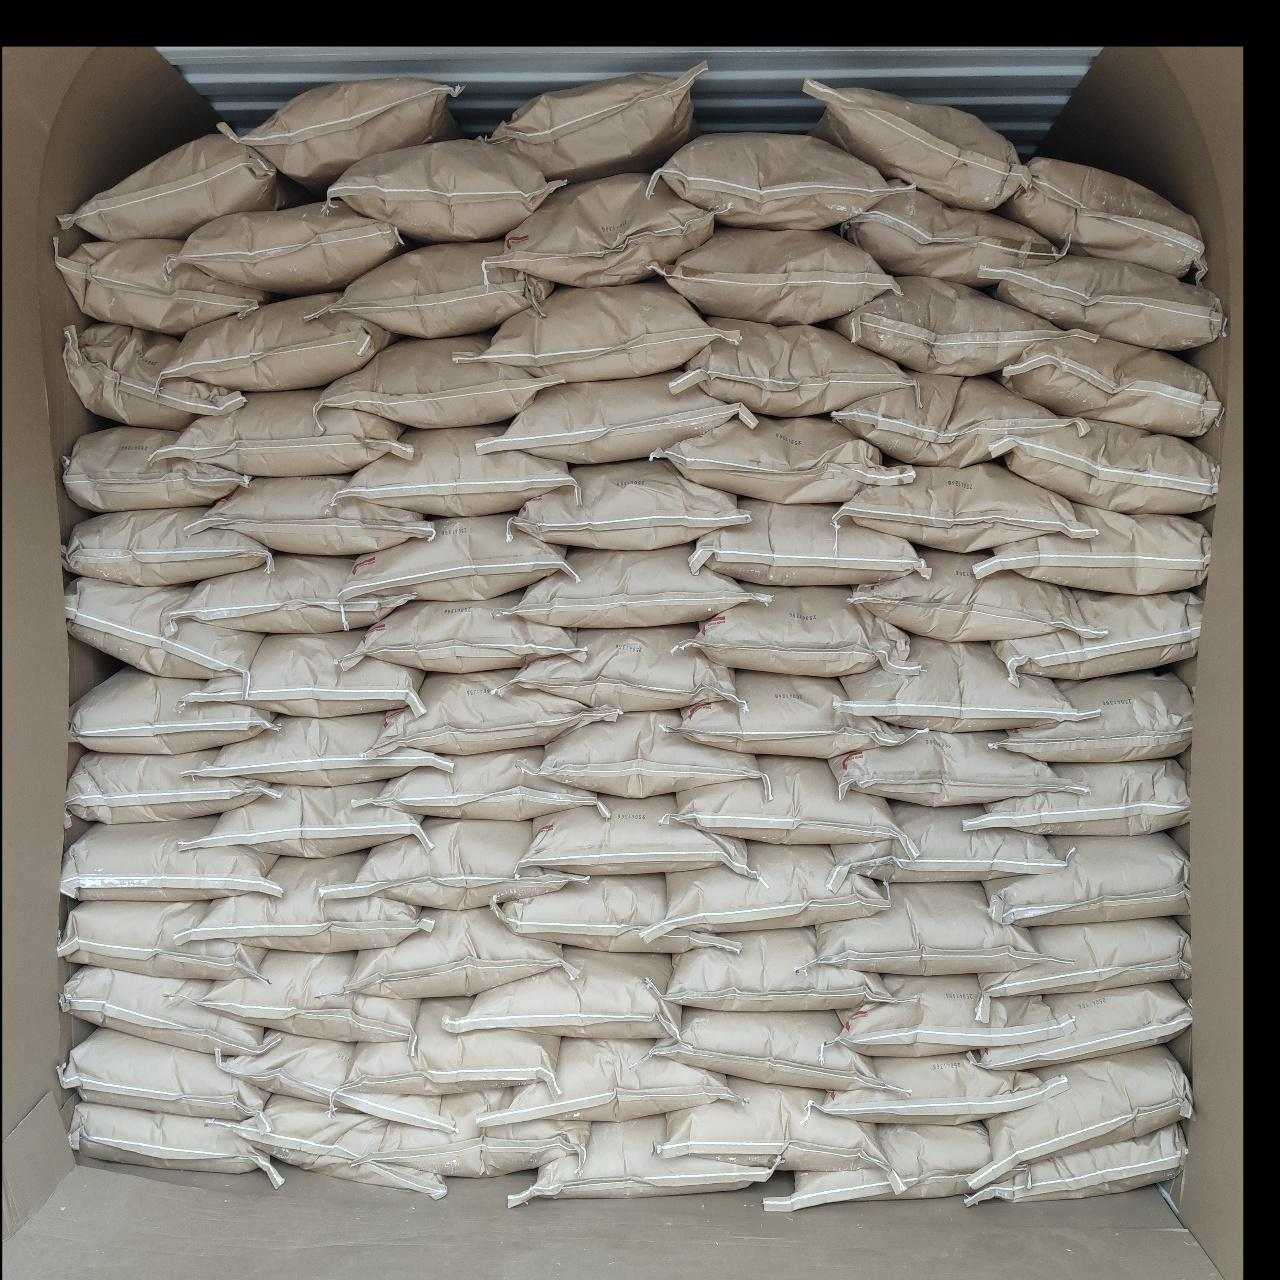sack: (978, 1046, 1190, 1182), (806, 80, 1020, 206), (57, 132, 302, 238), (488, 62, 704, 178), (224, 80, 459, 186), (651, 134, 910, 229), (1005, 158, 1206, 278), (482, 374, 754, 462), (493, 176, 710, 286), (481, 282, 716, 382), (832, 275, 1065, 374), (324, 818, 578, 908), (212, 1098, 444, 1196), (674, 318, 908, 414), (510, 1116, 772, 1201), (328, 142, 561, 238), (990, 254, 1223, 350), (218, 1032, 450, 1128), (658, 229, 894, 322), (162, 297, 396, 390), (835, 374, 1084, 462), (654, 416, 910, 502), (192, 855, 422, 949), (1002, 336, 1220, 436), (172, 202, 406, 294), (840, 636, 1082, 726), (852, 550, 1096, 638), (838, 464, 1085, 550), (842, 188, 1056, 286), (318, 334, 549, 425), (444, 948, 678, 1039), (512, 546, 768, 628), (342, 425, 572, 516), (816, 881, 1040, 974), (678, 672, 922, 756), (331, 241, 550, 334), (515, 459, 742, 549), (672, 756, 896, 846), (162, 390, 406, 472), (57, 240, 270, 334), (976, 504, 1208, 590), (352, 998, 558, 1094), (765, 1124, 990, 1212), (694, 588, 915, 678), (196, 952, 418, 1040), (377, 670, 614, 753), (66, 578, 260, 678), (666, 844, 886, 932), (971, 982, 1190, 1070), (348, 908, 566, 996), (690, 501, 924, 583), (340, 516, 572, 598), (660, 1078, 876, 1166), (62, 322, 241, 428), (828, 802, 1064, 881), (520, 796, 756, 876), (343, 592, 583, 670), (1002, 422, 1216, 510), (195, 632, 422, 714), (986, 835, 1190, 926), (538, 712, 758, 796), (501, 1039, 734, 1118), (515, 626, 734, 710), (493, 874, 738, 949), (965, 1124, 1185, 1206), (376, 1090, 590, 1175), (356, 748, 604, 821), (195, 476, 430, 552), (60, 1030, 264, 1118), (62, 966, 266, 1054), (170, 554, 408, 629), (184, 782, 428, 855), (830, 731, 1074, 804), (668, 928, 888, 1008), (70, 1099, 284, 1182), (654, 1008, 880, 1085), (996, 592, 1200, 678), (200, 714, 448, 784), (994, 672, 1190, 760), (62, 818, 278, 898), (838, 976, 1060, 1054), (964, 760, 1189, 835), (70, 668, 275, 750), (813, 1054, 1064, 1121), (980, 918, 1190, 998), (57, 903, 263, 980), (64, 425, 246, 510), (66, 508, 270, 583), (68, 750, 280, 822)
